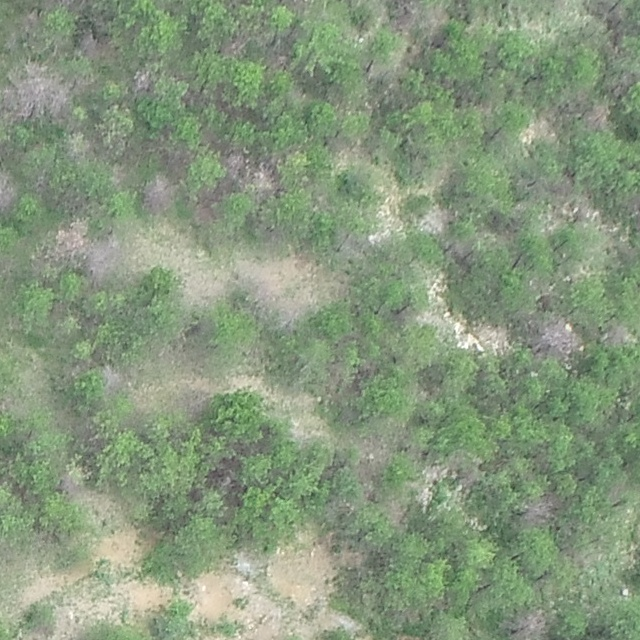unhealthy: (2, 62, 70, 121), (534, 316, 582, 358), (84, 233, 123, 283), (177, 269, 222, 306), (51, 219, 88, 261), (141, 171, 178, 213), (503, 608, 551, 640), (519, 493, 561, 526), (76, 30, 115, 62), (392, 0, 423, 32), (600, 320, 634, 348), (0, 166, 18, 218), (421, 3, 450, 35), (605, 70, 638, 98), (252, 161, 279, 194), (585, 100, 613, 131), (221, 30, 250, 57), (100, 364, 126, 394), (384, 496, 407, 527), (222, 150, 248, 177), (130, 68, 154, 94), (264, 50, 291, 70), (19, 10, 41, 32), (281, 0, 313, 12)
